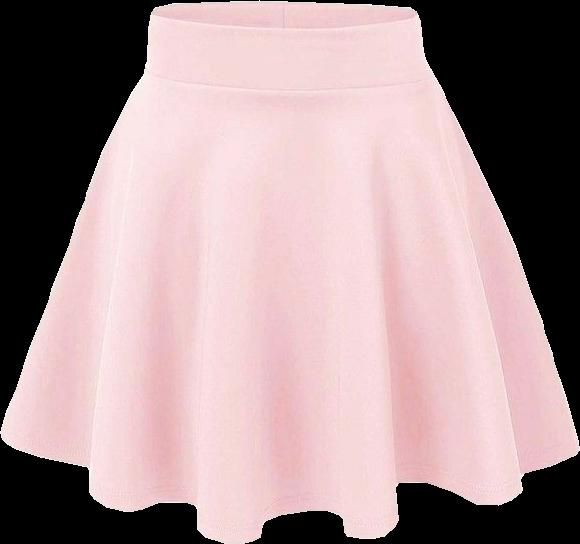Hemline: (0, 428, 579, 543)
Waistline: (141, 64, 436, 93), (148, 8, 419, 37)
